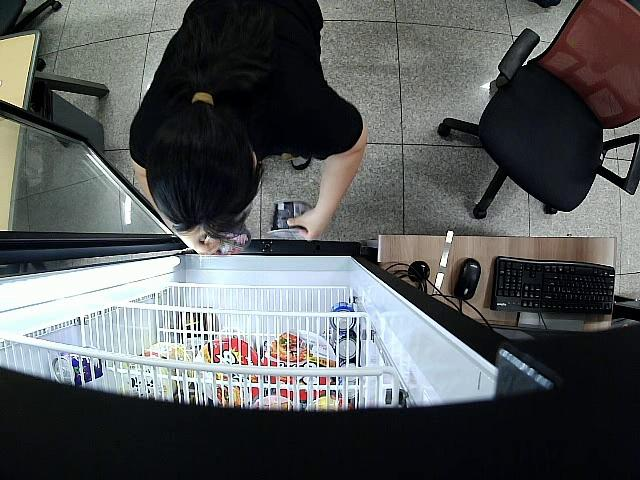00_hand: (286, 209, 329, 242)
07_buldak_L: (267, 201, 312, 239), (204, 225, 251, 256)
